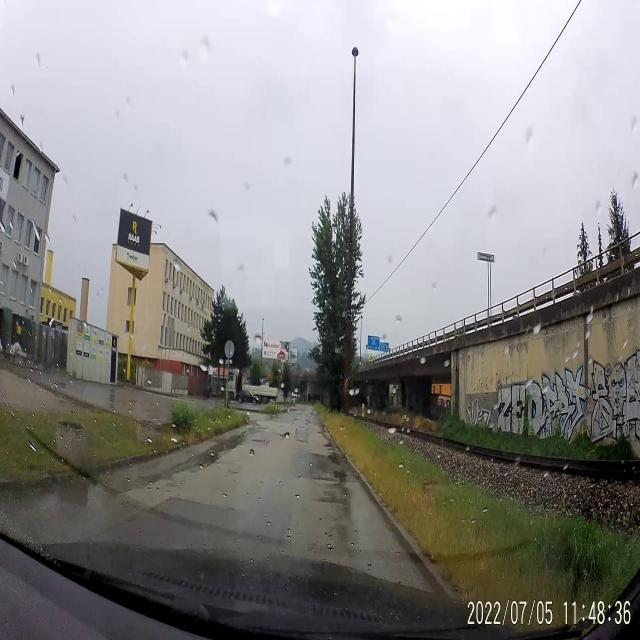Pothole: (310, 466, 344, 494), (247, 437, 271, 445)
